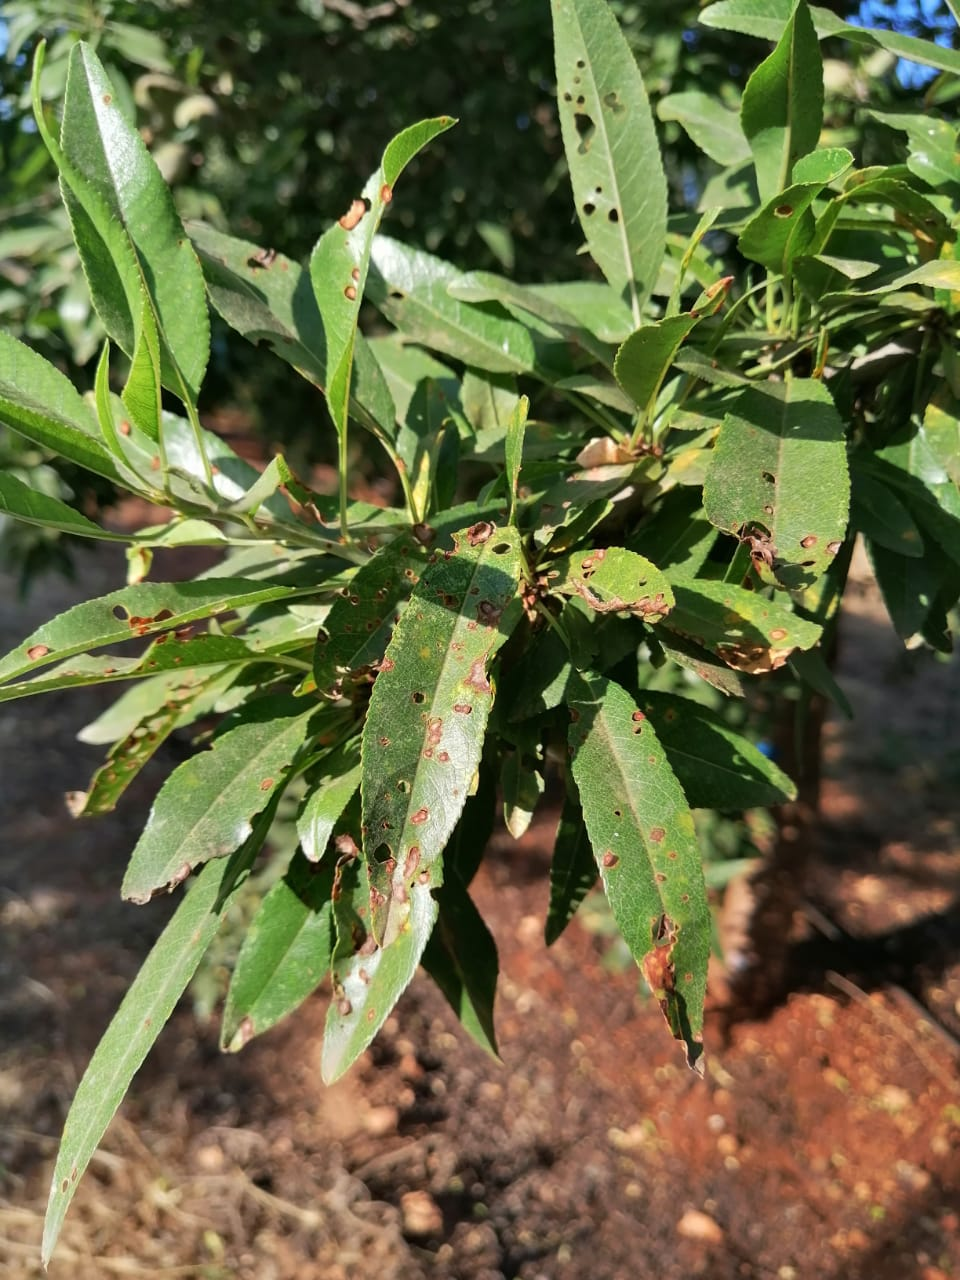coryneum: (364, 522, 526, 952), (567, 658, 711, 1081), (702, 376, 852, 590)
